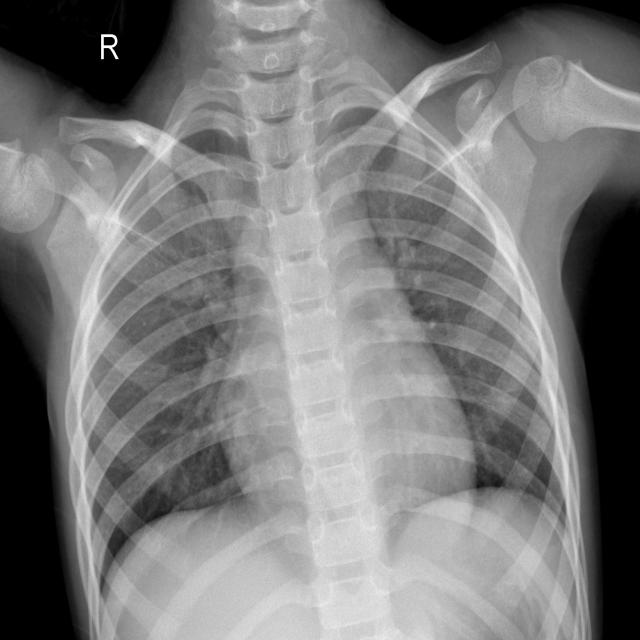no-pneumonia: (317, 75, 581, 540), (68, 86, 252, 635)
